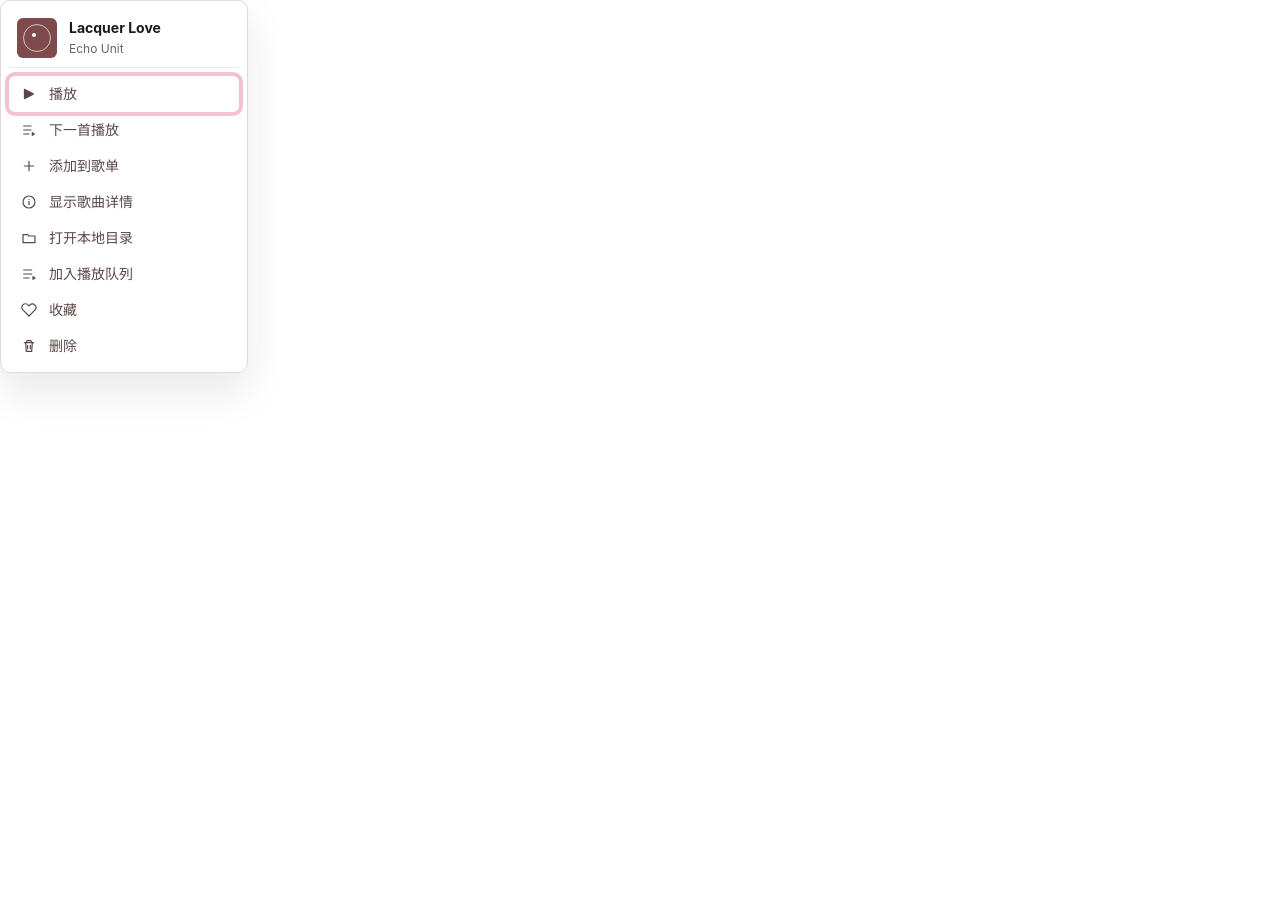
Test case: SongMenu task 10.8 › shows only a relative path in the read-only detail — never an absolute path
Click the menu item "显示歌曲详情" at (124, 202), box [9, 184, 239, 220]
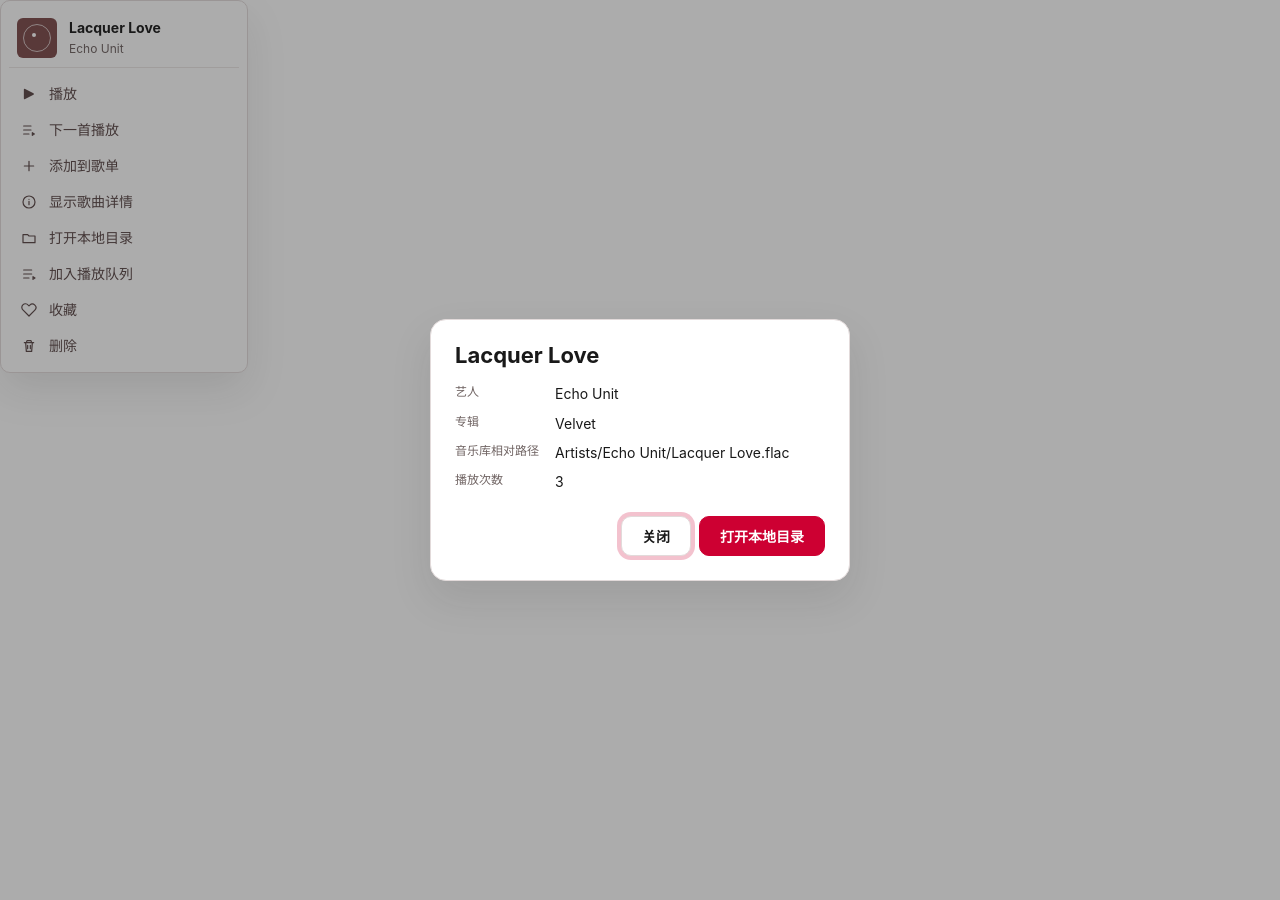
Check: the text with test id "detail-relative-path" reads "Artists/Echo Unit/Lacquer Love.flac", box [555, 444, 789, 461]
